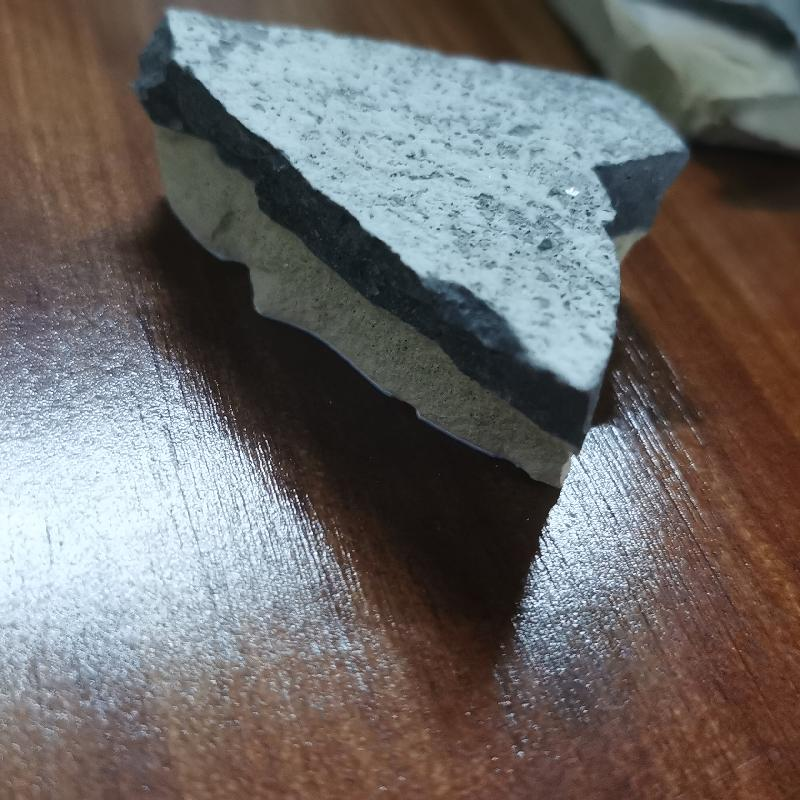tile: (137, 4, 685, 491)
